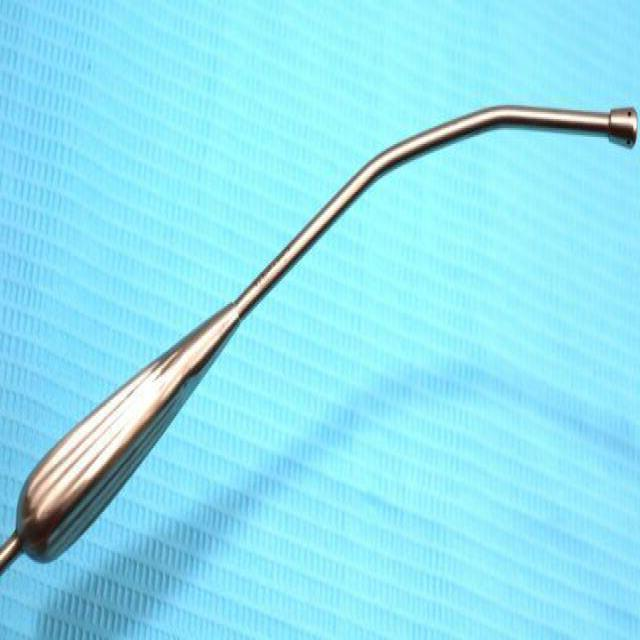Yankauer: (0, 92, 638, 574)
